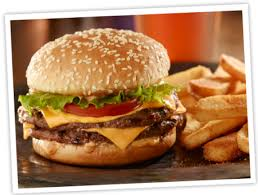hamburger: (22, 27, 183, 165)
